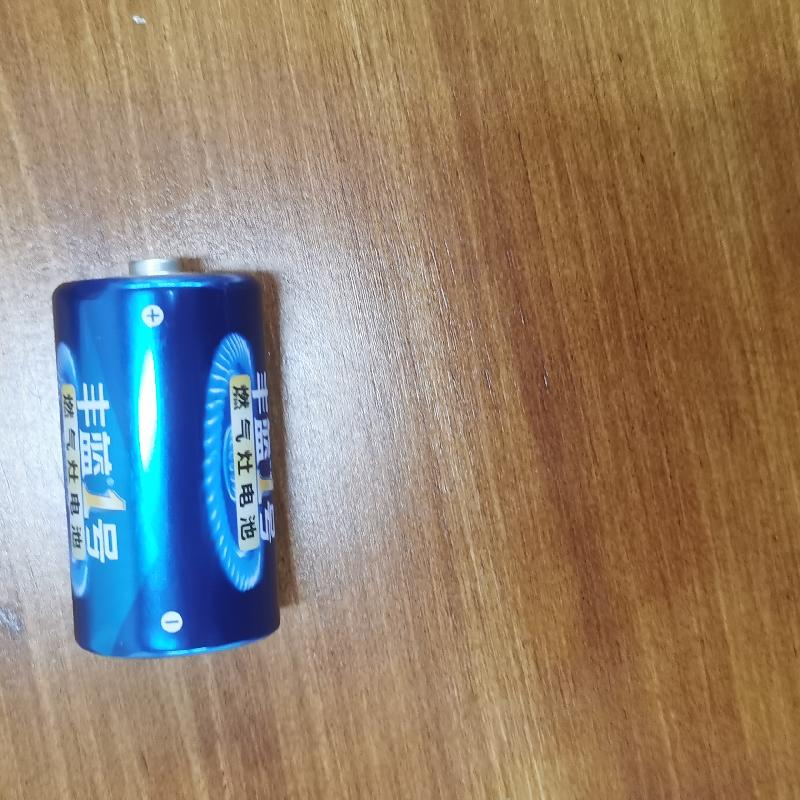battery: (42, 255, 286, 657)
